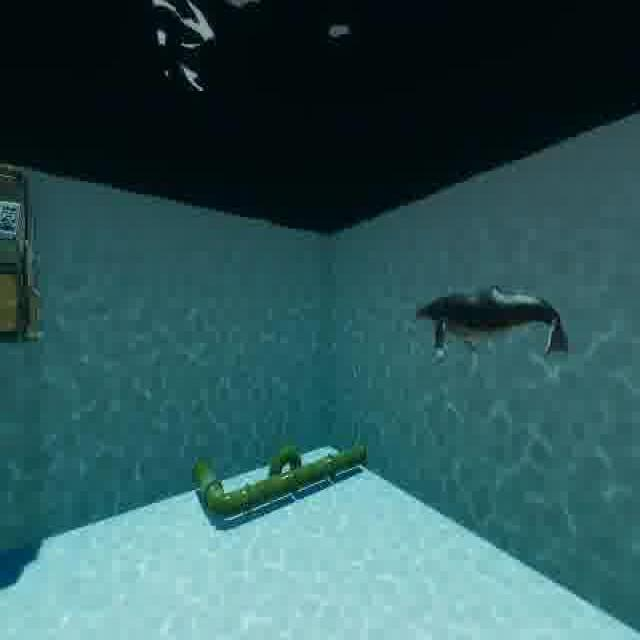Control Panel: (0, 147, 53, 366)
Pipe: (178, 423, 394, 533)
Whale: (414, 268, 581, 370)
